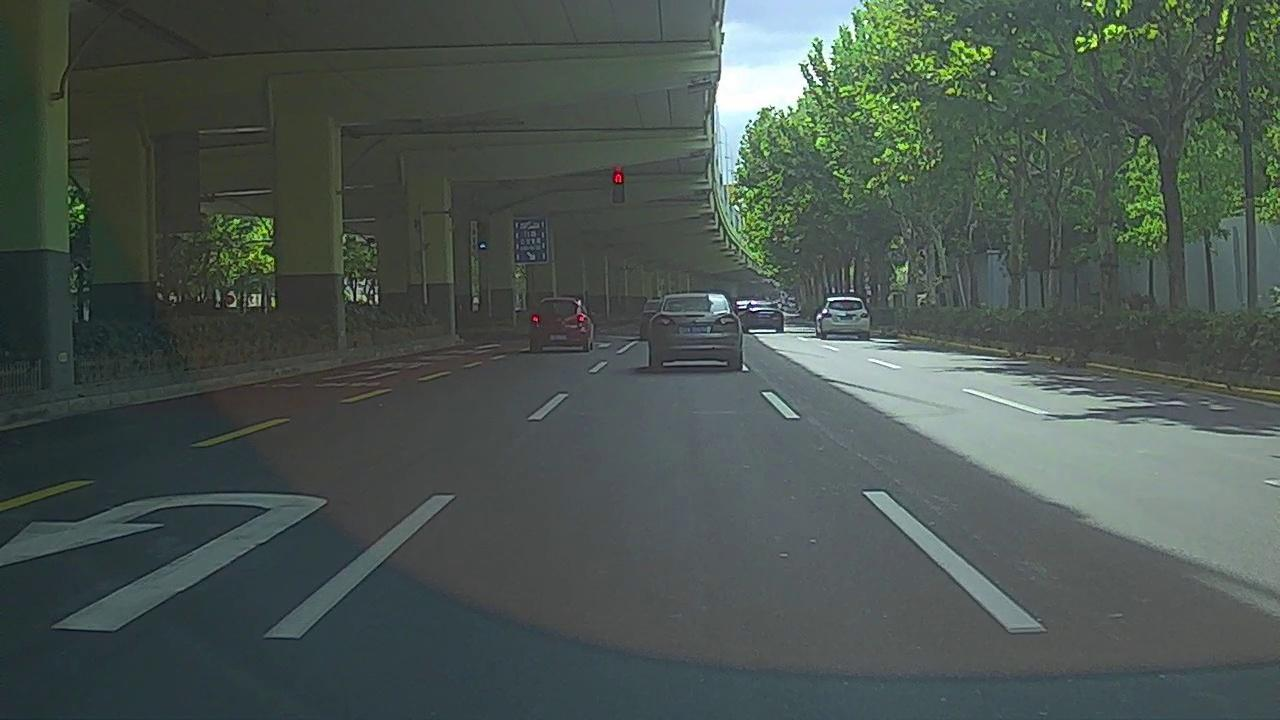traffic_light: (612, 171, 623, 203)
